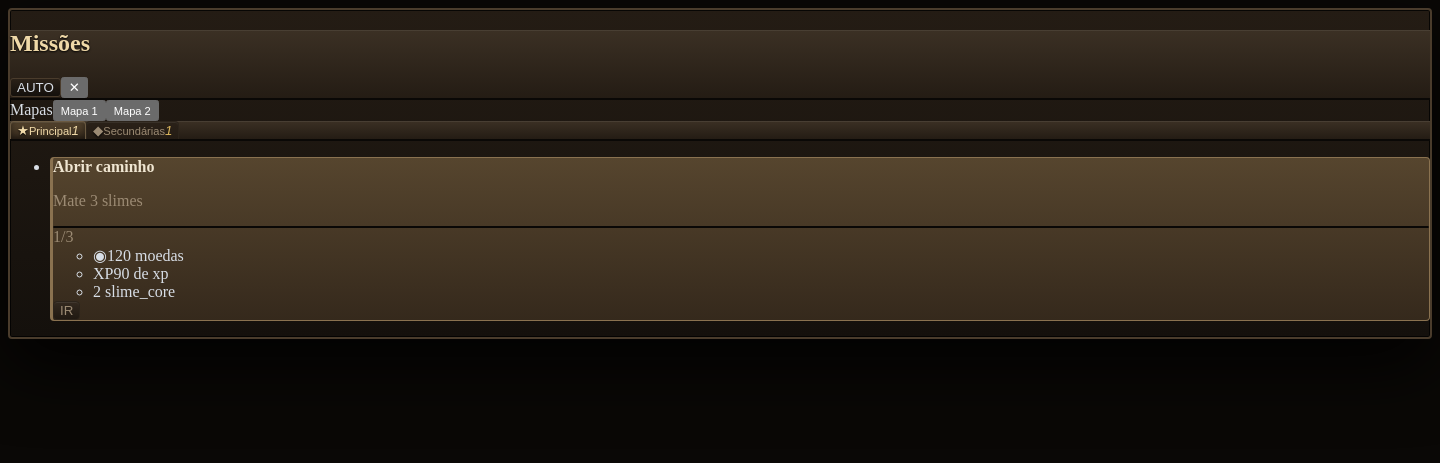
it: QuestPanel abas de missao › clicar de volta traz a principal de volta
Click the tab "◆Secundárias1": (133, 130) [86, 121, 179, 139]
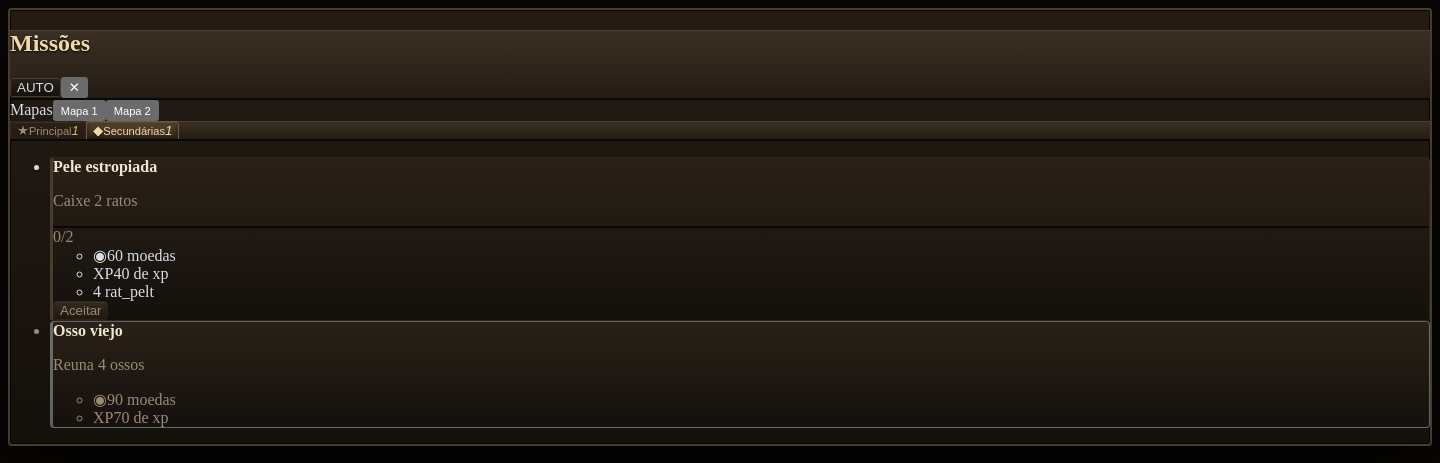
Click the tab "★Principal1": (48, 130) [10, 121, 86, 139]
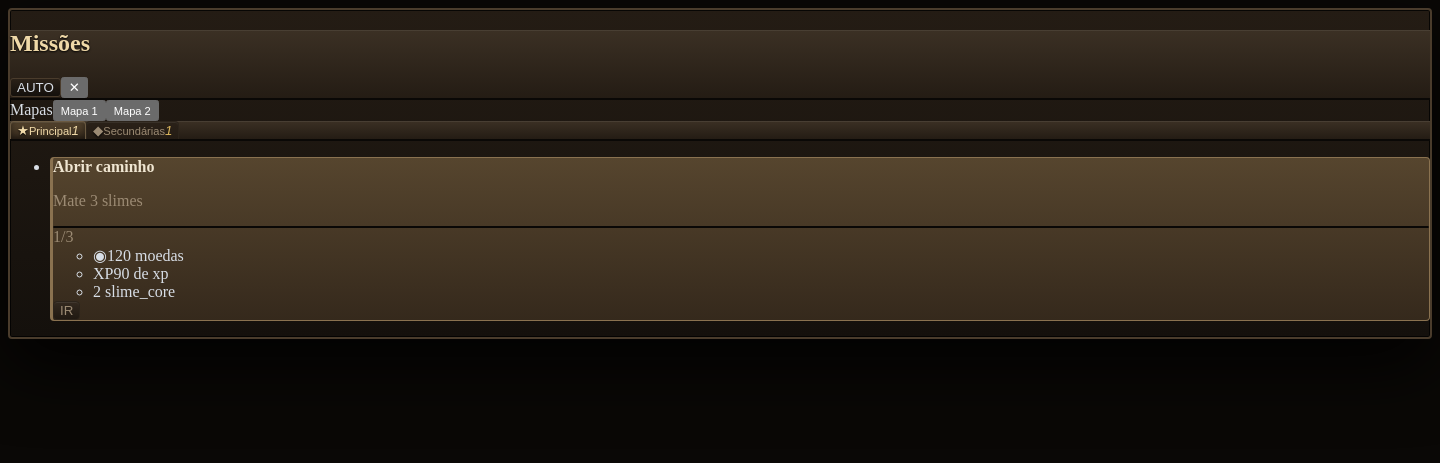
Expected: the text "Abrir caminho" is shown, [53, 158, 154, 175]
Expected: the text "Pele estropiada" is gone
